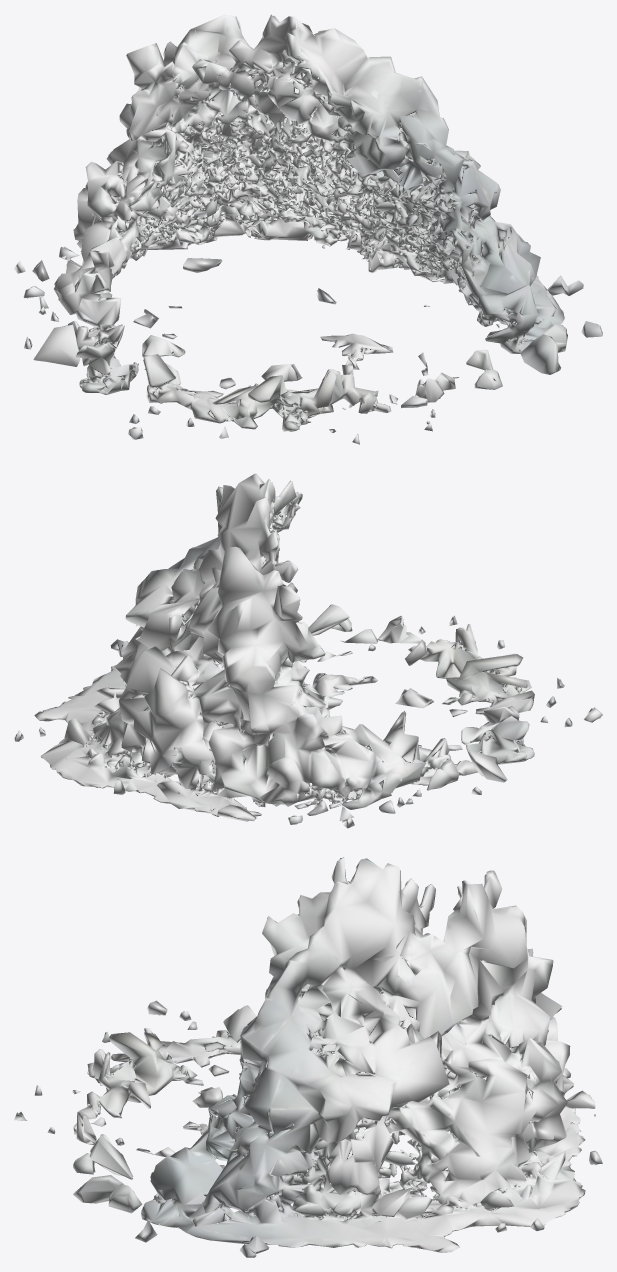
3 renders of one model, top to bottom at view 1: azimuth 30°, elevation 25°; view 2: azimuth 150°, elevation 25°; view 3: azimuth 270°, elevation 25°, orthographic. The views are drawn at different scales.
Parts seen in each view (by area): view 1: world; view 2: world; view 3: world.
Boxes of the visible parts, x1,y1,x2,y2 form: world: (14,14,602,444); world: (14,473,602,828); world: (14,857,602,1257).
Bounding box in the file's own units: 0.9811 × 0.5427 × 0.9976.
Materials: 1 (1 with a texture image).
